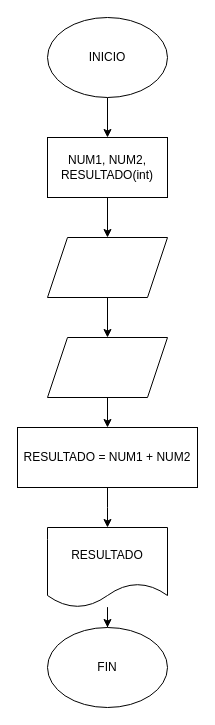
Image size: 215x725. Some labels were removed from this diagram. The box of each missing label's shape, as (x1, y1, x2, y2) in pixels:
NUM1: (46, 236, 168, 298)
NUM2: (46, 336, 168, 398)
